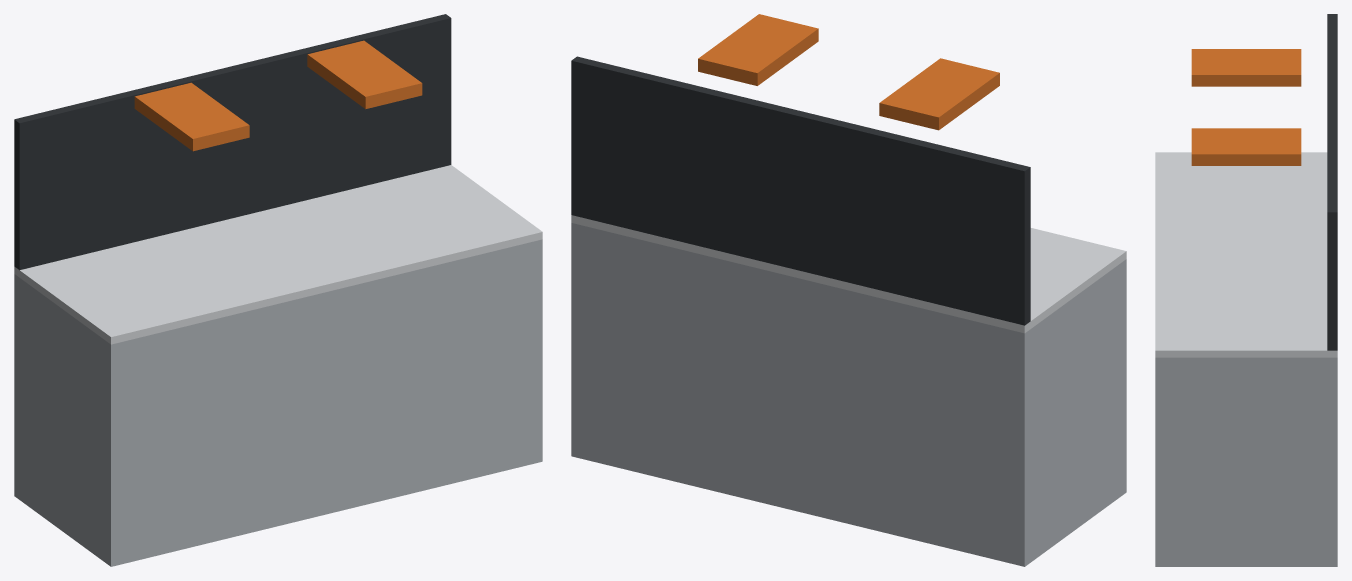
Rendered from counter_heated_pass_72.glb.
The picture shows the model from 3 angles, left to right: view 1: azimuth 30°, elevation 25°; view 2: azimuth 150°, elevation 25°; view 3: azimuth 270°, elevation 25°; orthographic projection. The views are drawn at different scales.
Size of the model in its own units: 1.83 by 1.57 by 0.7112.
